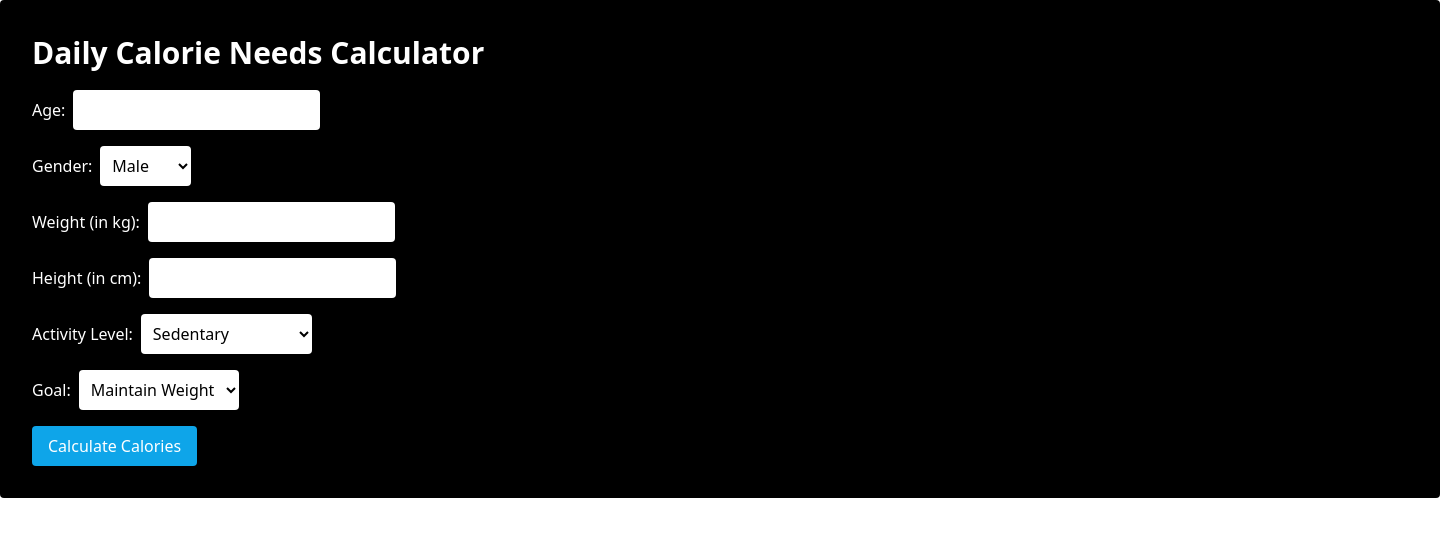
Test case: calculates daily calorie needs correctly
In the number field labelled "Age:": (197, 110) [73,90,320,130], type "30"
Select "Female" in the dropdown labelled "Gender:": (146, 166) [100,146,191,186]
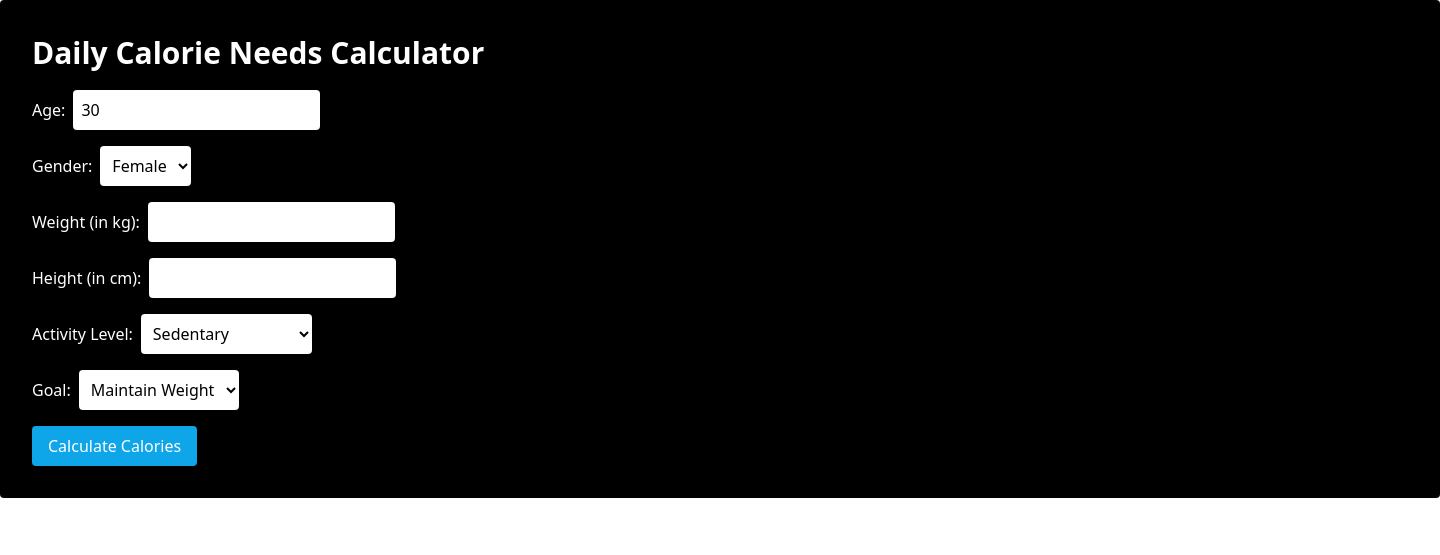
In the number field labelled "Weight (in kg):": (271, 222) [148,202,395,242], type "60"
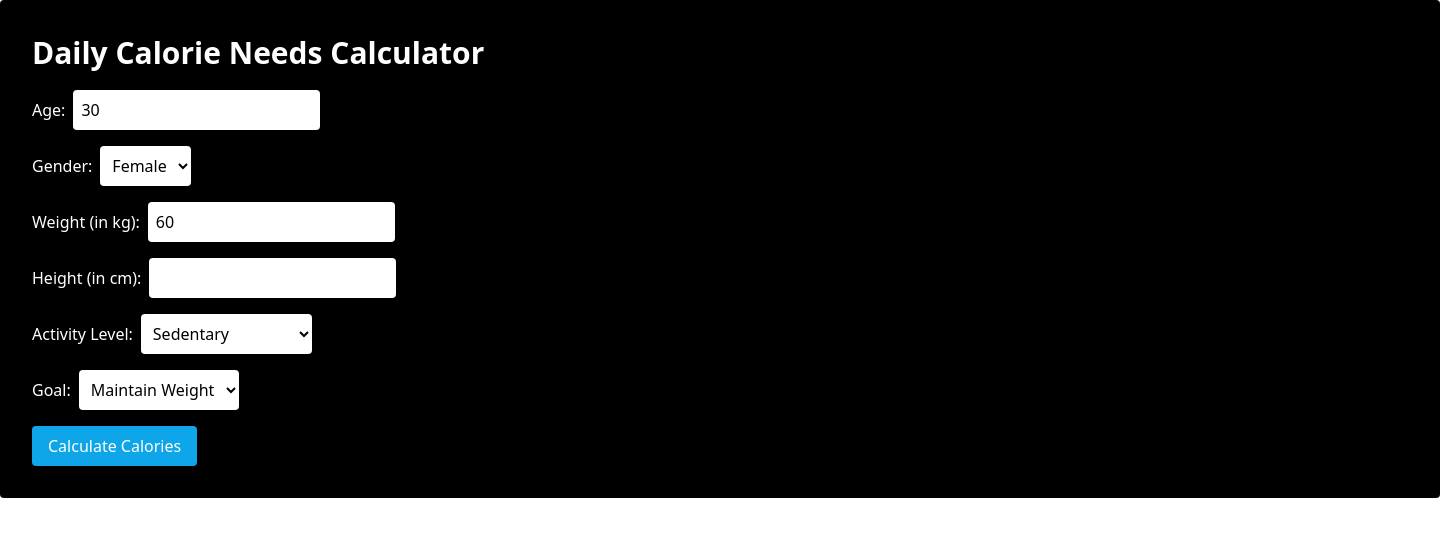
In the number field labelled "Height (in cm):": (273, 278) [149,258,396,298], type "165"
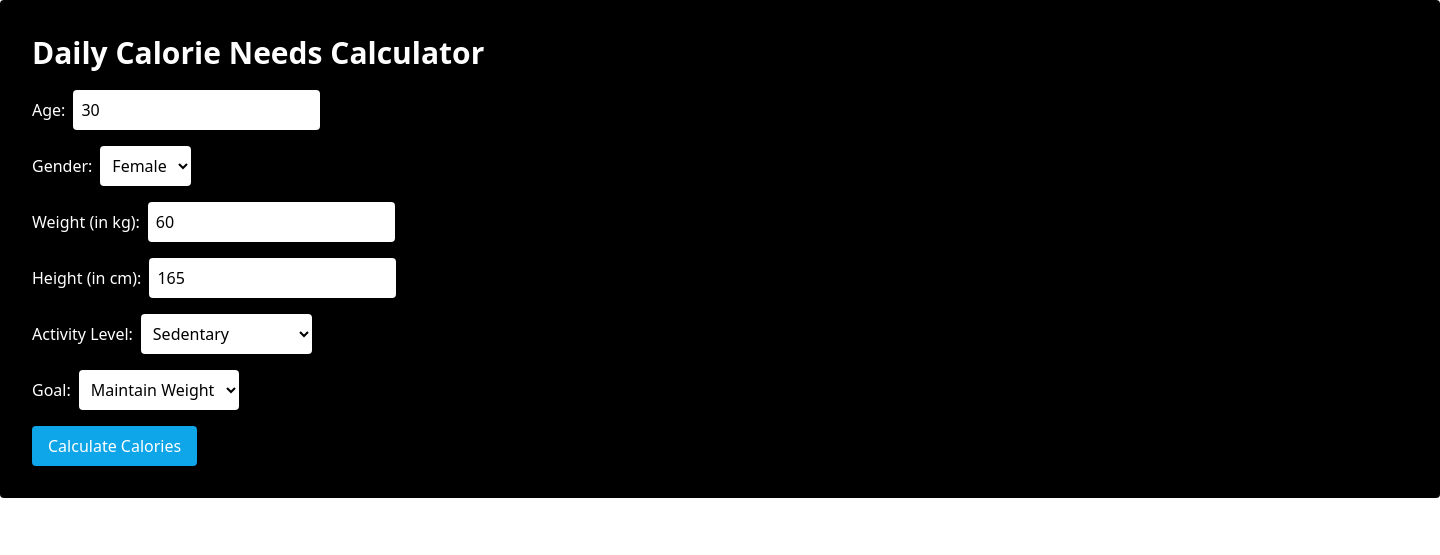
Select "Moderately Active" in the dropdown labelled "Activity Level:": (226, 334) [141,314,312,354]
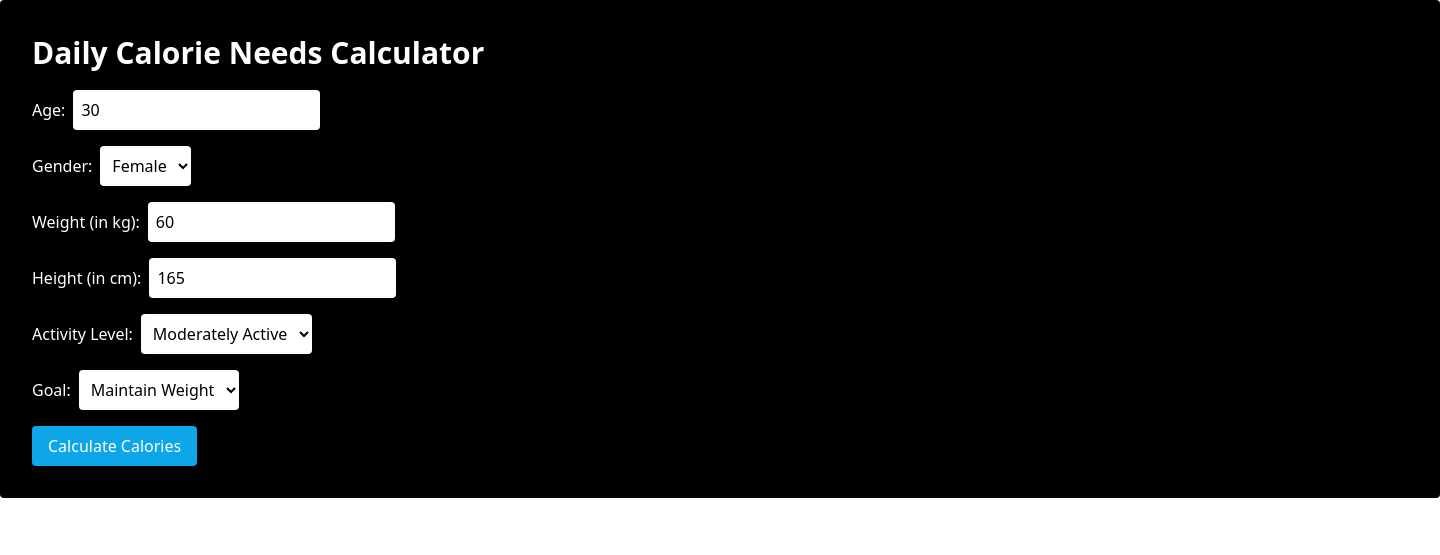
Select "Lose Weight" in the dropdown labelled "Goal:": (159, 390) [79,370,239,410]
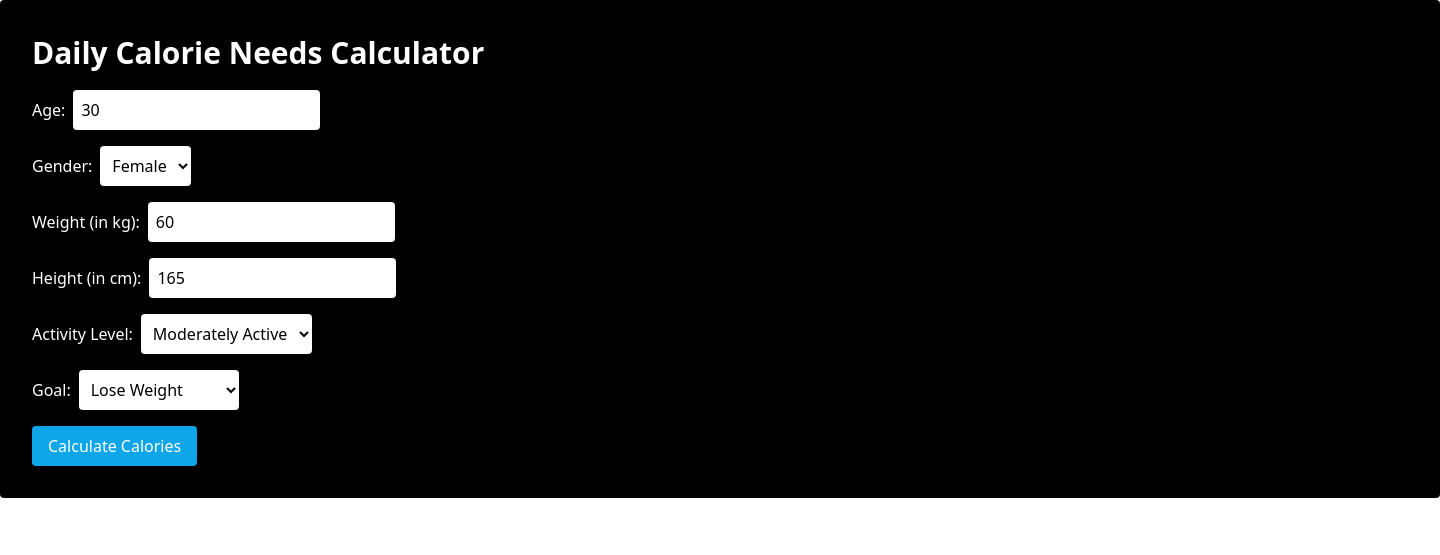
Click the button "Calculate Calories": click(115, 446) [32,426,197,466]
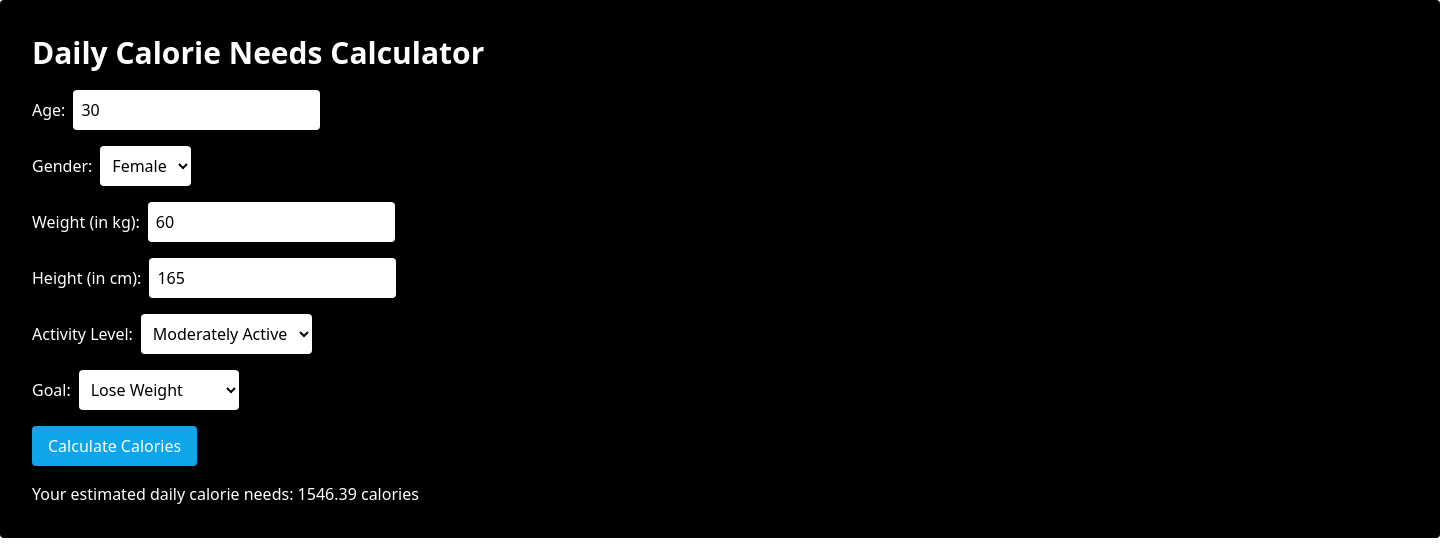
Check: the heading "Your estimated daily calorie needs: 1546.39 calories" is shown, box [32,483,419,505]
